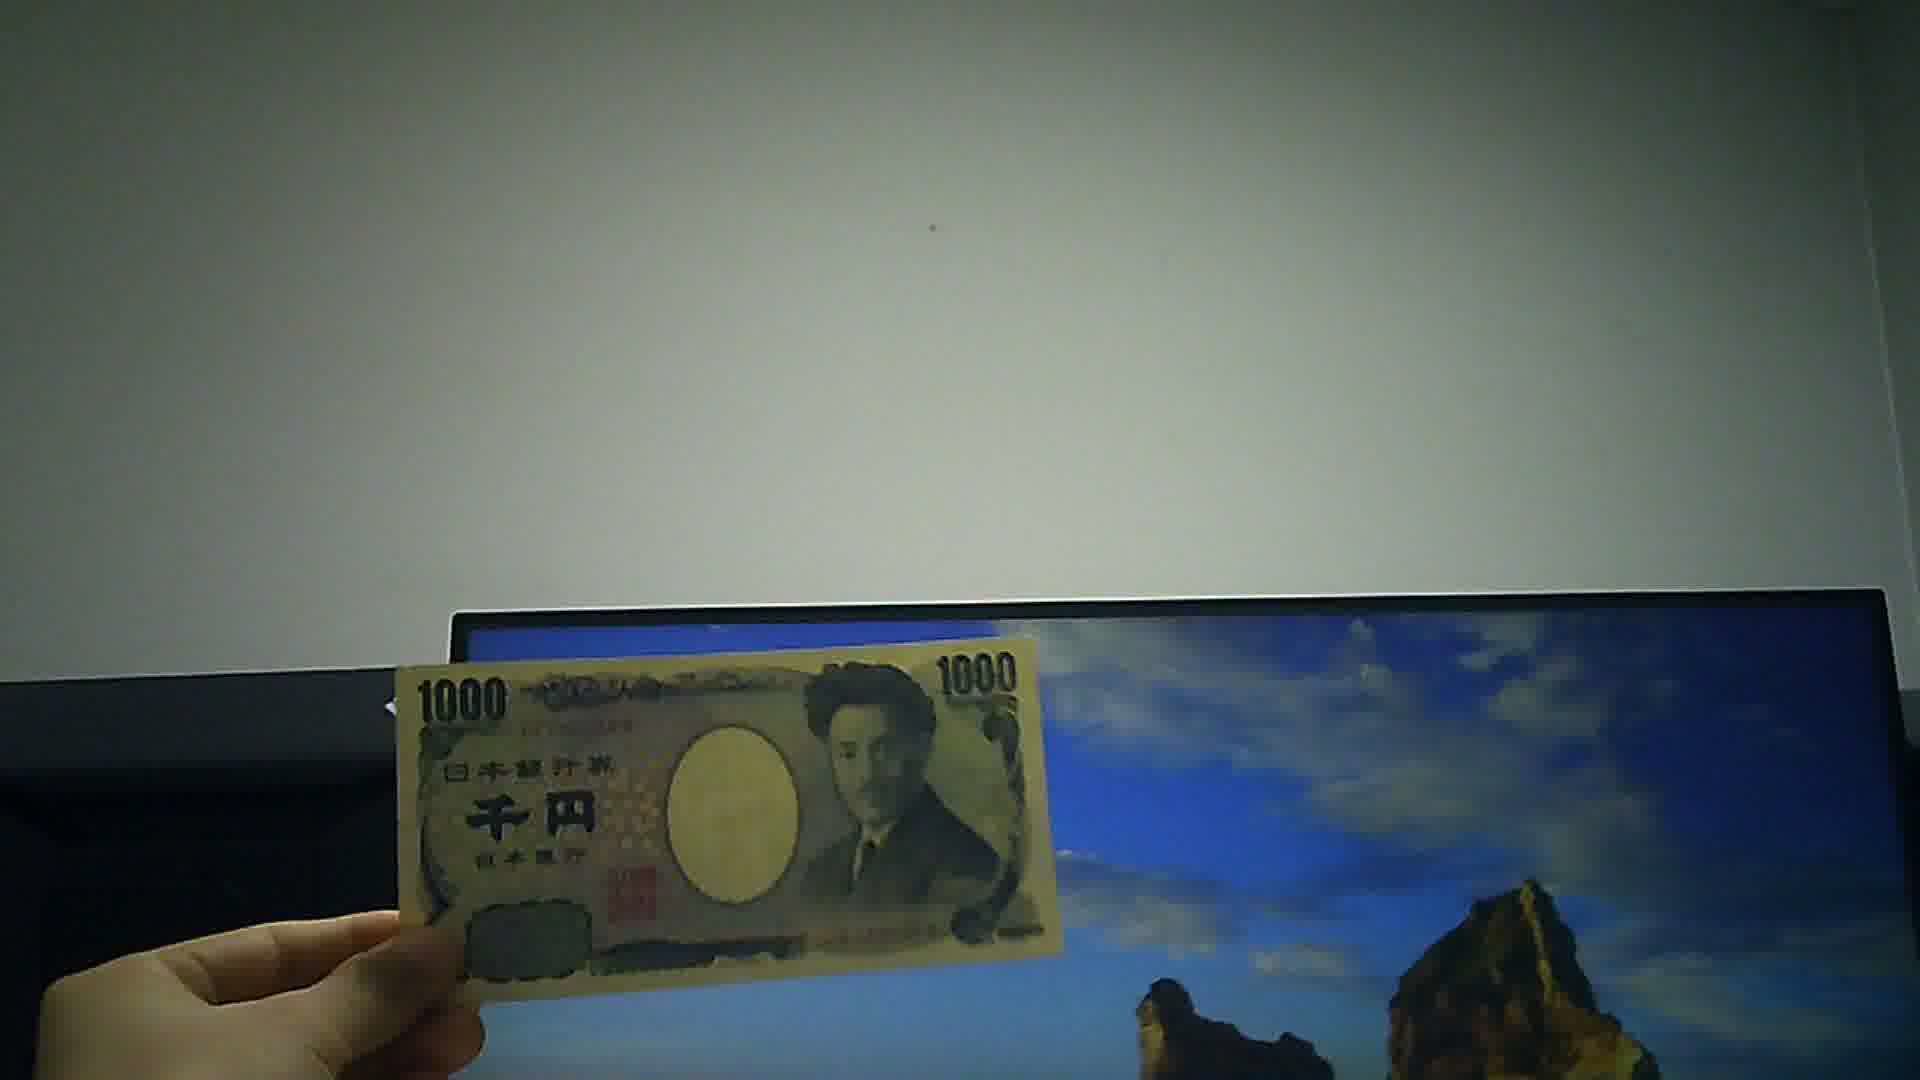1,000 Yen: (385, 655, 1071, 990)
